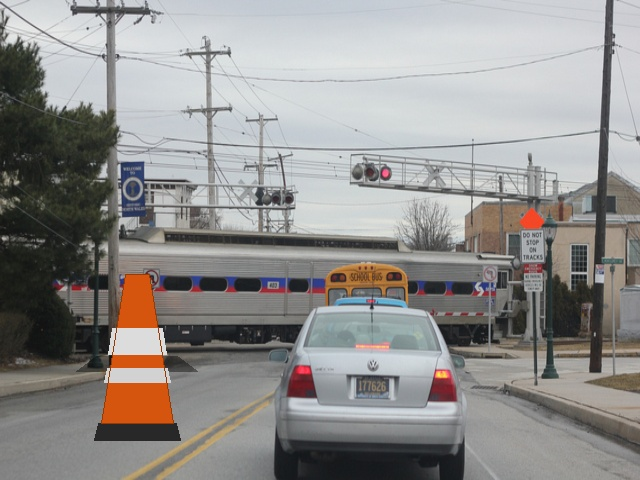traffic-cone: (94, 274, 180, 440)
